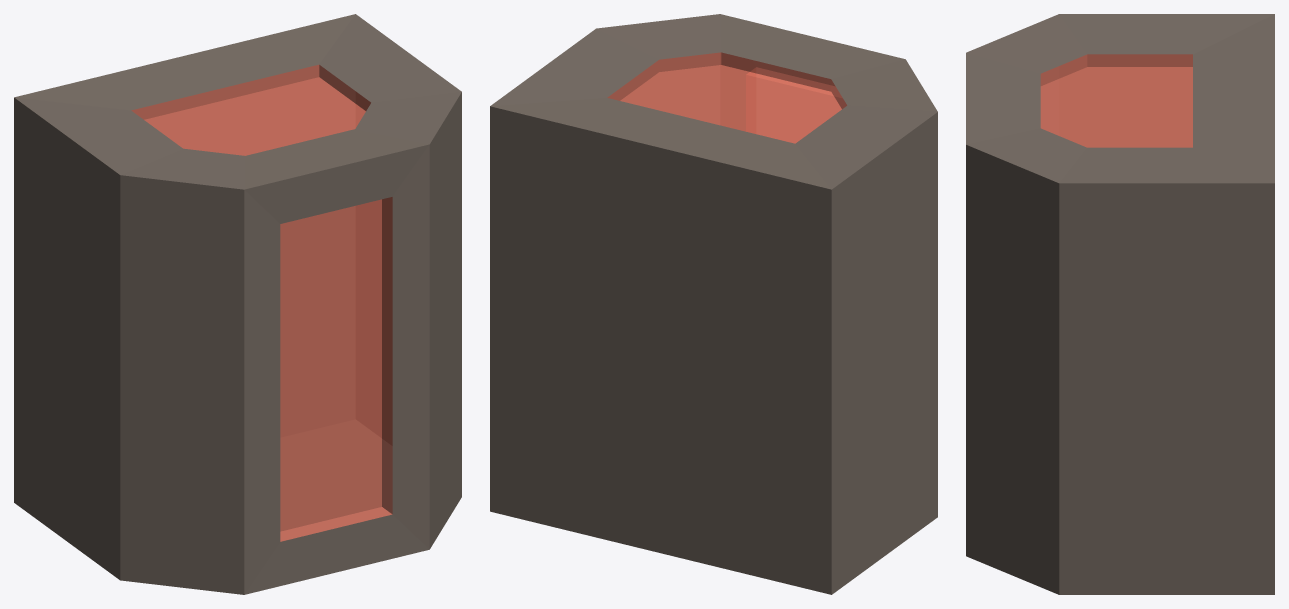
Rendered from red_anubis.gltf.
3 views of the same model, side by side, from view 1: azimuth 30°, elevation 25°; view 2: azimuth 150°, elevation 25°; view 3: azimuth 270°, elevation 25° (orthographic).
Visible parts, largest first — view 1: red_anubis; view 2: red_anubis; view 3: red_anubis.
Part boxes in pixels (x1,y1,x2,y2): red_anubis: (14,14,461,594); red_anubis: (490,14,937,594); red_anubis: (966,14,1274,594).
Bounding box in the file's own units: 1.5 × 1.7 × 1.16.
